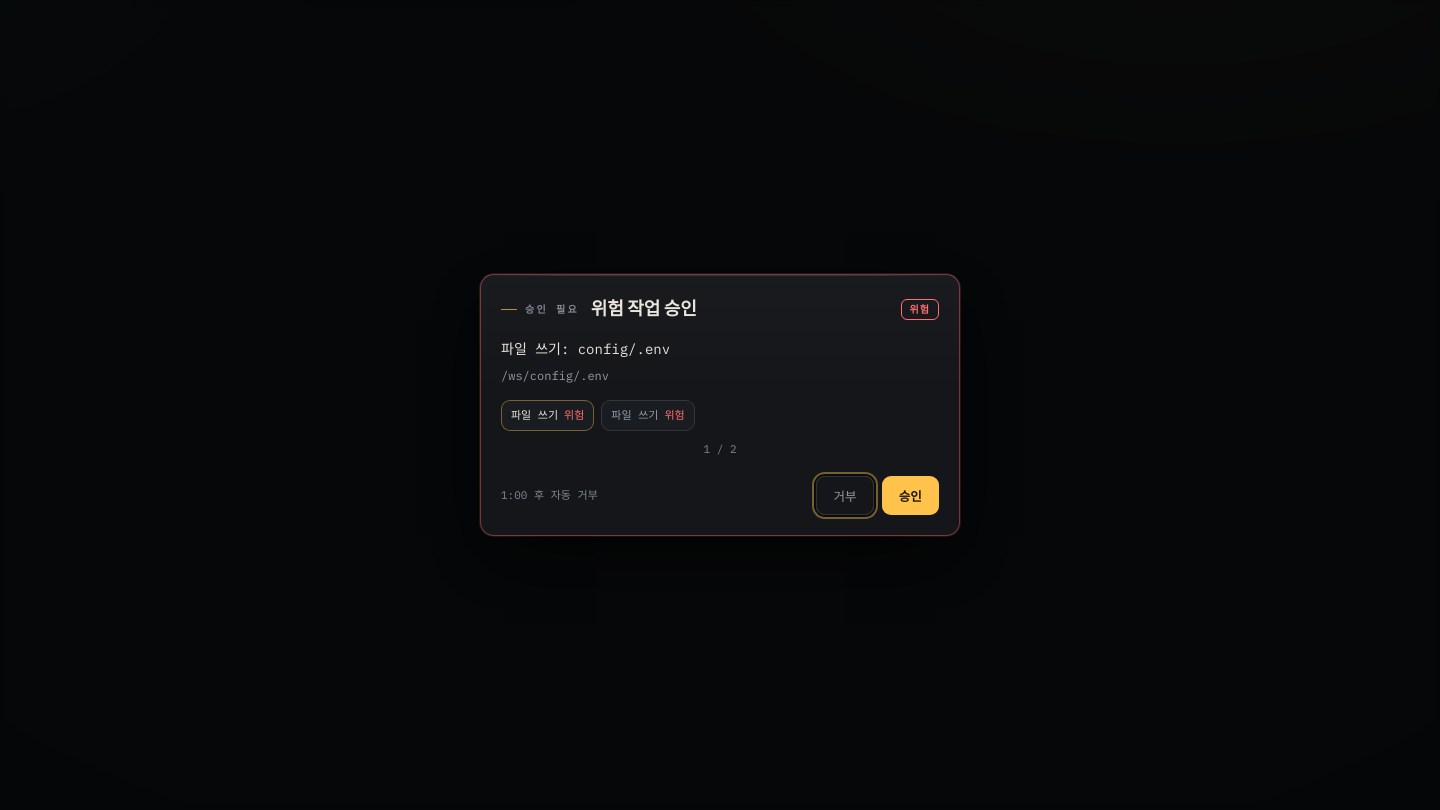
Scenario: ApprovalModal › shows queued requests one at a time
Expected: the text "파일 쓰기: config/.env" is shown, [501,340,670,358]
Click the button "승인" at point(910, 495), box [882,476,939,515]
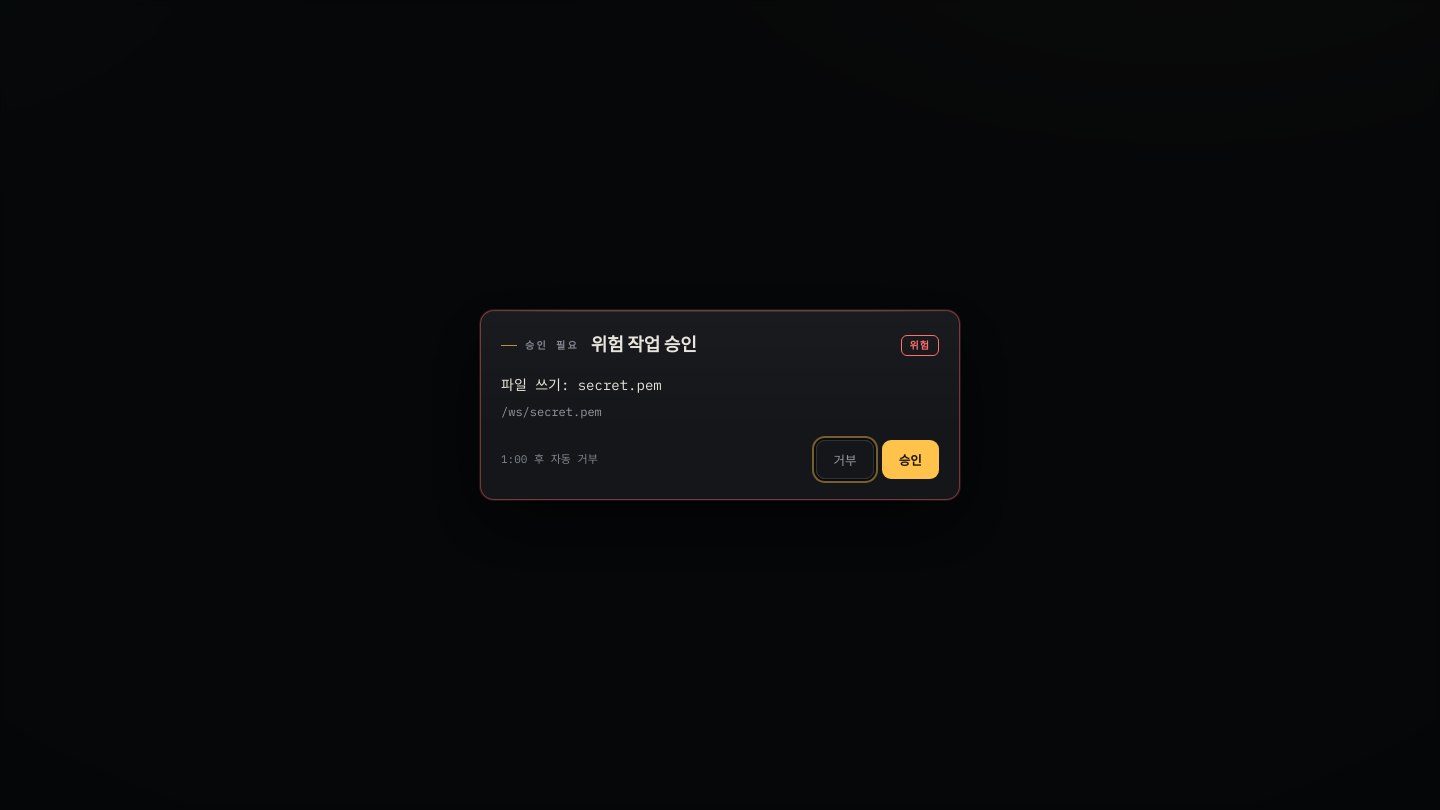
Result: the text "파일 쓰기: secret.pem" is shown at [501,376,662,394]
